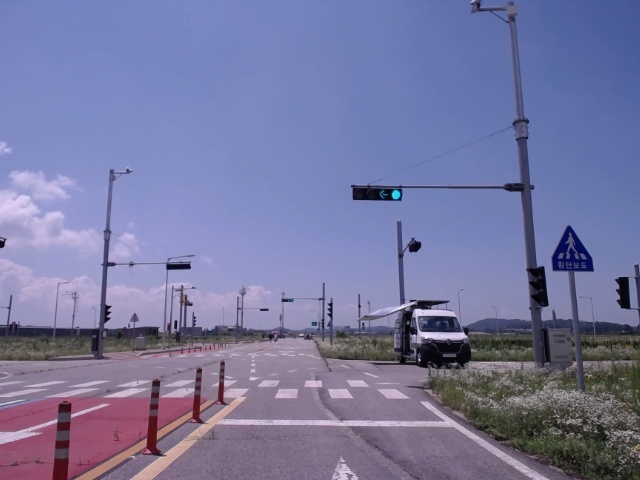all_green_4: (352, 187, 402, 203)
